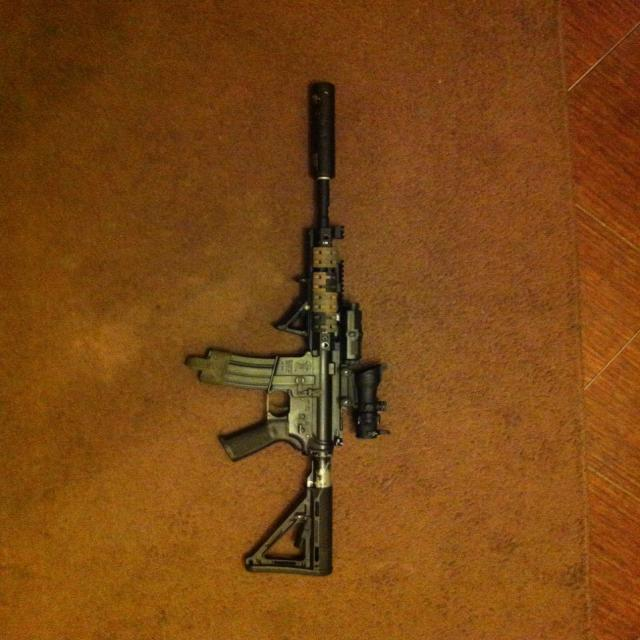firearm: (182, 77, 392, 577)
